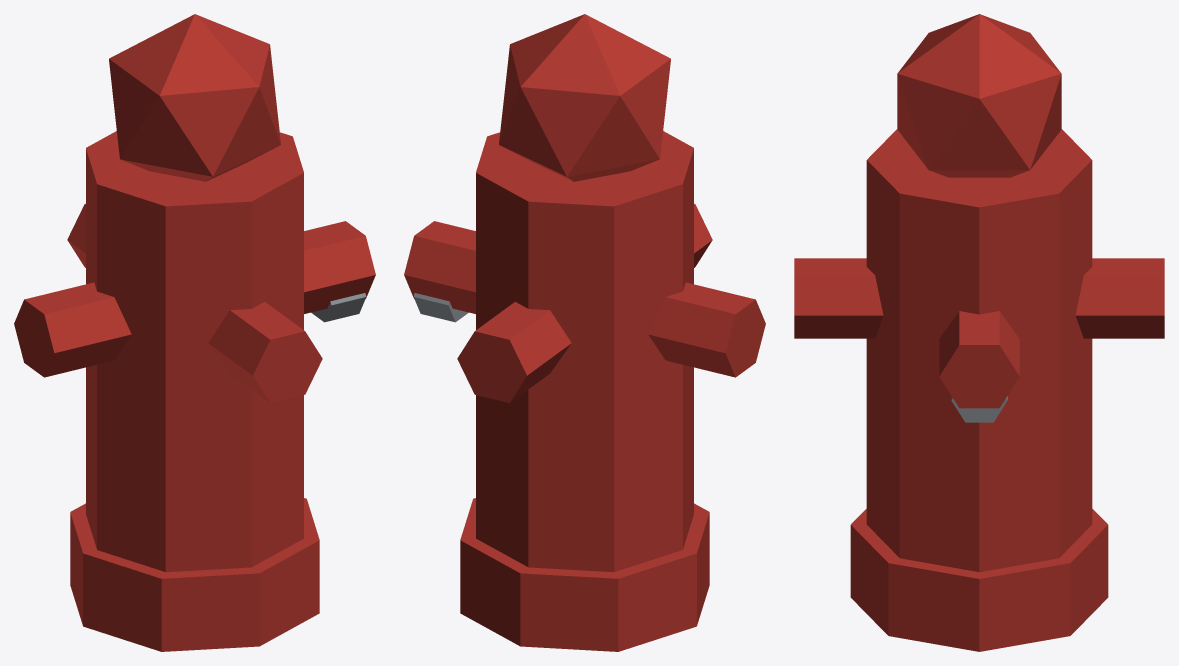
File: prop.hydrant.glb
3 renders of one model, left to right at view 1: azimuth 30°, elevation 25°; view 2: azimuth 150°, elevation 25°; view 3: azimuth 270°, elevation 25°, orthographic.
Parts seen in each view (by area): view 1: prop.hydrant; view 2: prop.hydrant; view 3: prop.hydrant.
Part boxes in pixels (box(x1,y1,x2,y2)): prop.hydrant: box(14, 14, 375, 651); prop.hydrant: box(404, 14, 765, 651); prop.hydrant: box(794, 14, 1164, 651).
Size of the model in its own units: 0.46 by 0.8 by 0.46.
